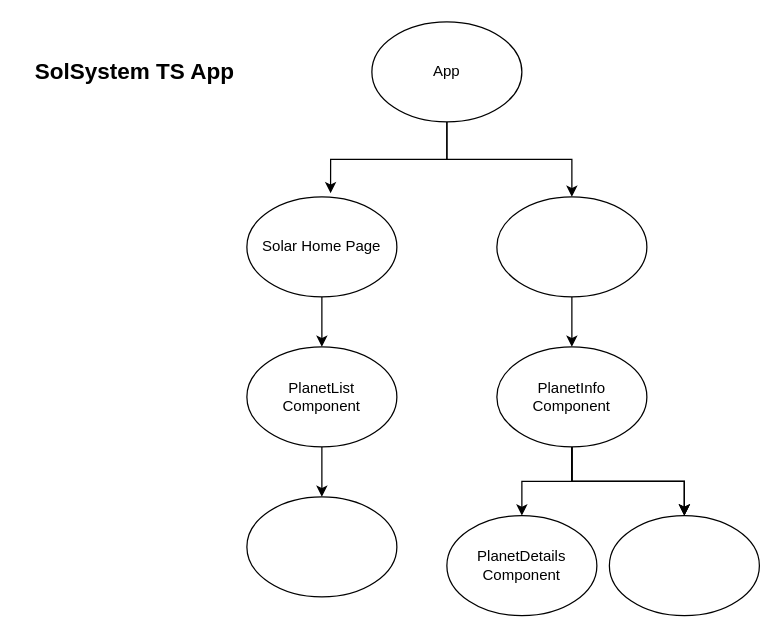
The diagram is 781 pixels wide and 638 high, and some of its shapes have lost their labels. Each missing label, with the centre of its shape:
"Planet" belongs at (571,246).
"Planet Component" belongs at (321,546).
"PlanetBakgrColor = Planet Component" belongs at (683,565).
